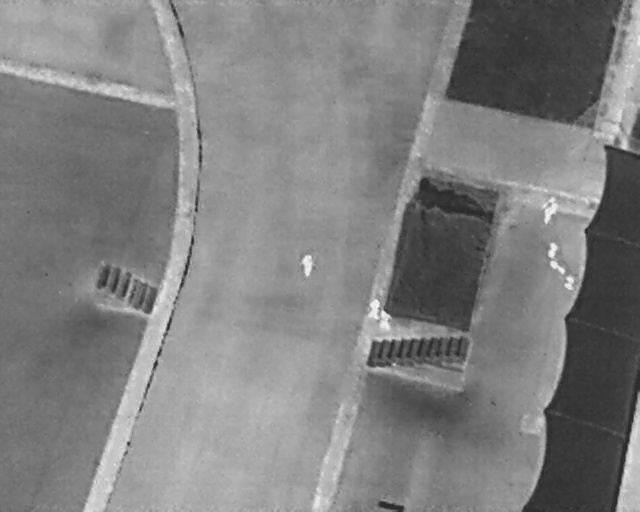Person: (539, 192, 560, 227), (366, 296, 381, 321), (378, 309, 393, 331), (302, 251, 313, 279)
